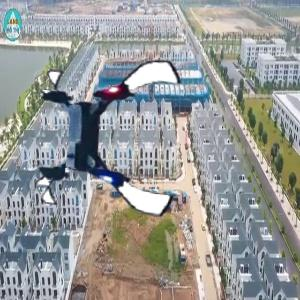drone: (31, 54, 192, 215)
